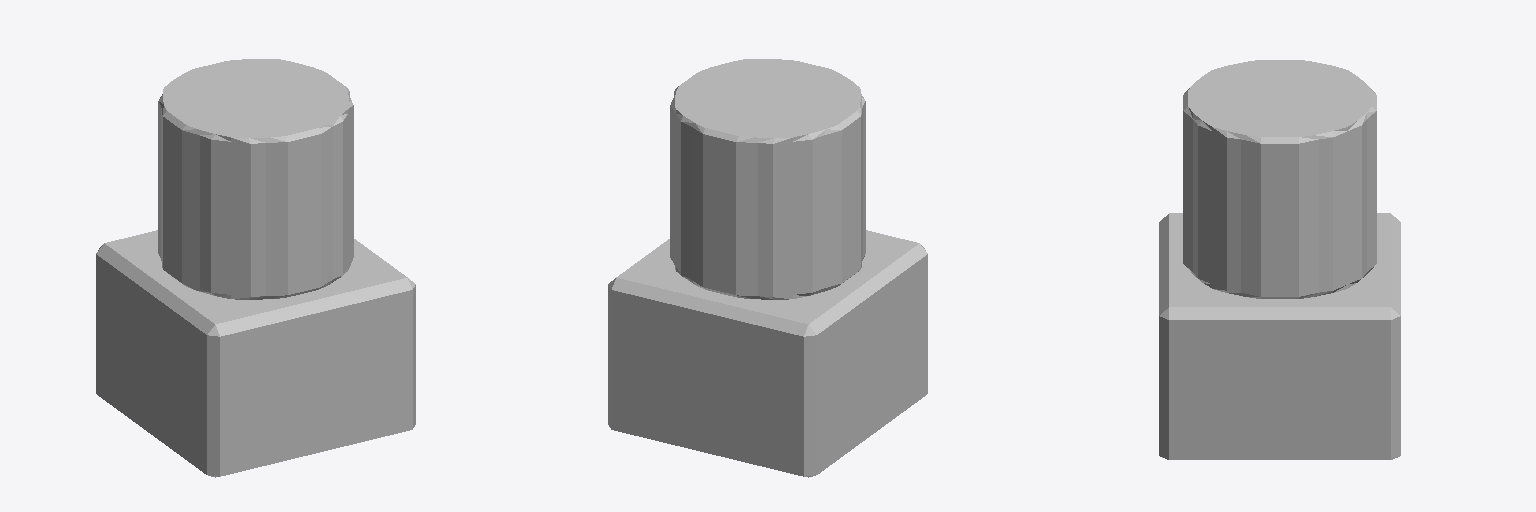
Rendered from laser.obj.
The picture shows the model from 3 angles: view 1: azimuth 30°, elevation 25°; view 2: azimuth 150°, elevation 25°; view 3: azimuth 270°, elevation 25°; orthographic projection.
Bounding box in the file's own units: 0.05 × 0.072 × 0.05.